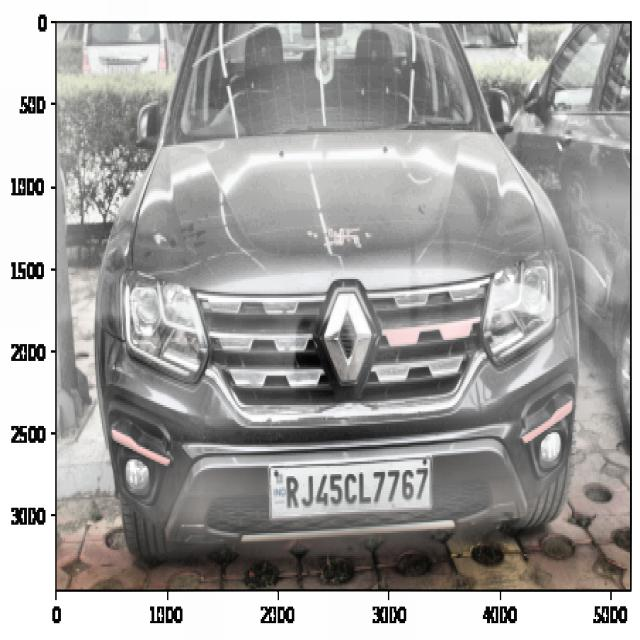license_plate: (275, 458, 431, 515)
